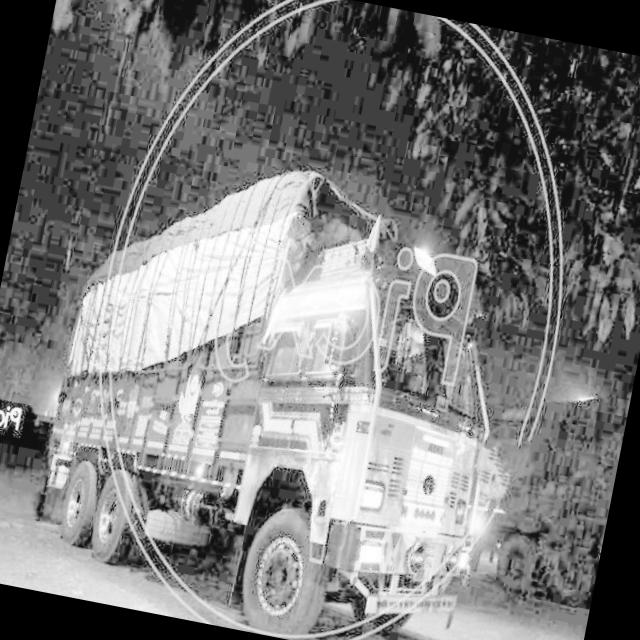Truck: (19, 129, 563, 640)
